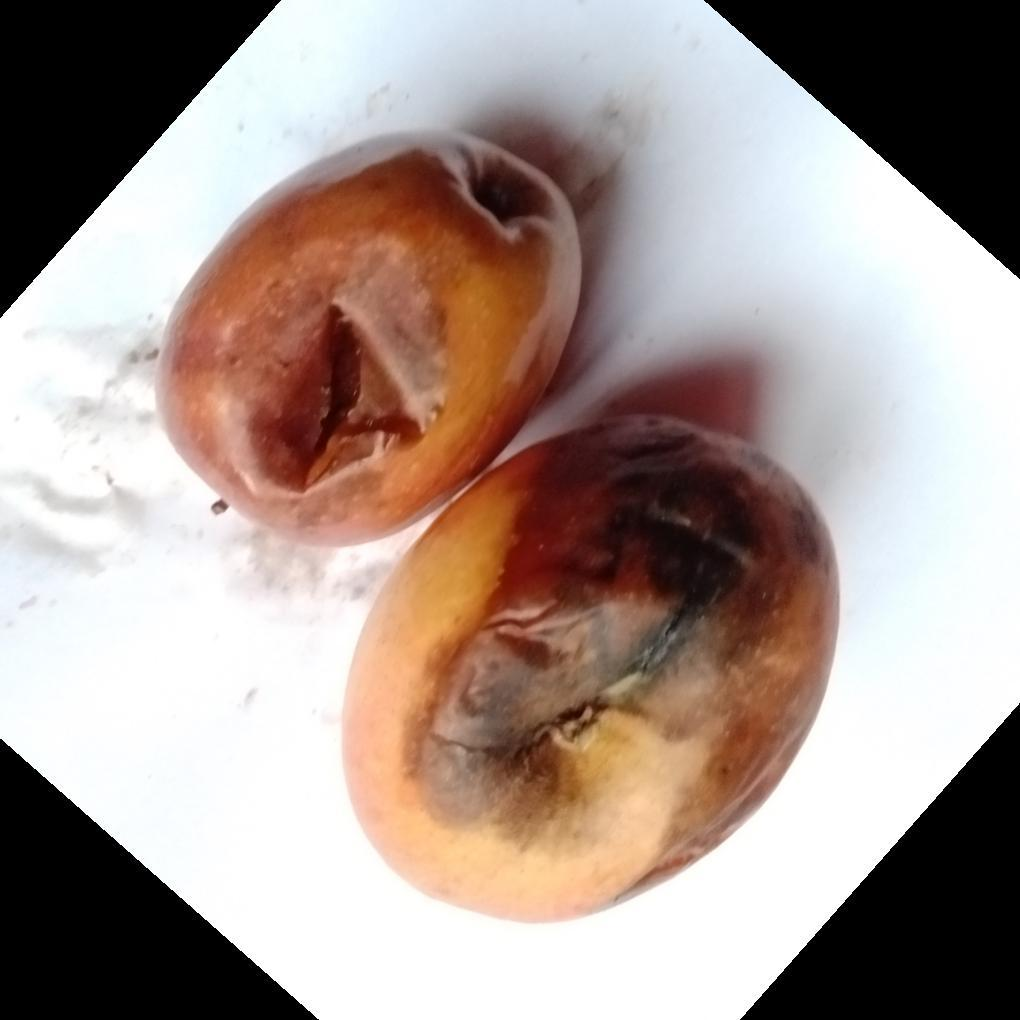FreshOrange: (157, 131, 839, 921)
